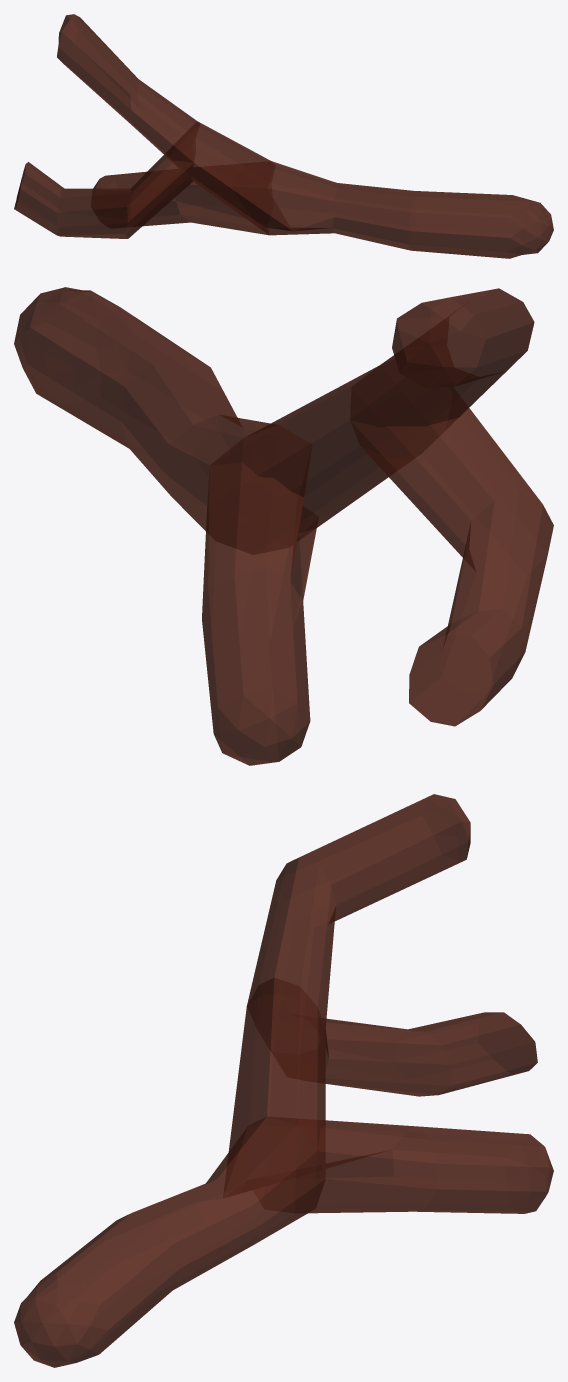
The model's file is snowmanBasicLeft.obj.
The picture shows the model from 3 angles, top to bottom: view 1: azimuth 30°, elevation 25°; view 2: azimuth 150°, elevation 25°; view 3: azimuth 270°, elevation 25°; orthographic projection. The views are drawn at different scales.
Parts seen in each view (by area): view 1: Cylinder.030; view 2: Cylinder.030; view 3: Cylinder.030.
Boxes of the visible parts, bbox=[...] form: Cylinder.030: bbox=[14, 14, 553, 258]; Cylinder.030: bbox=[14, 287, 553, 765]; Cylinder.030: bbox=[14, 794, 553, 1367].
Bounding box in the file's own units: 2.87 × 1.71 × 2.3.
